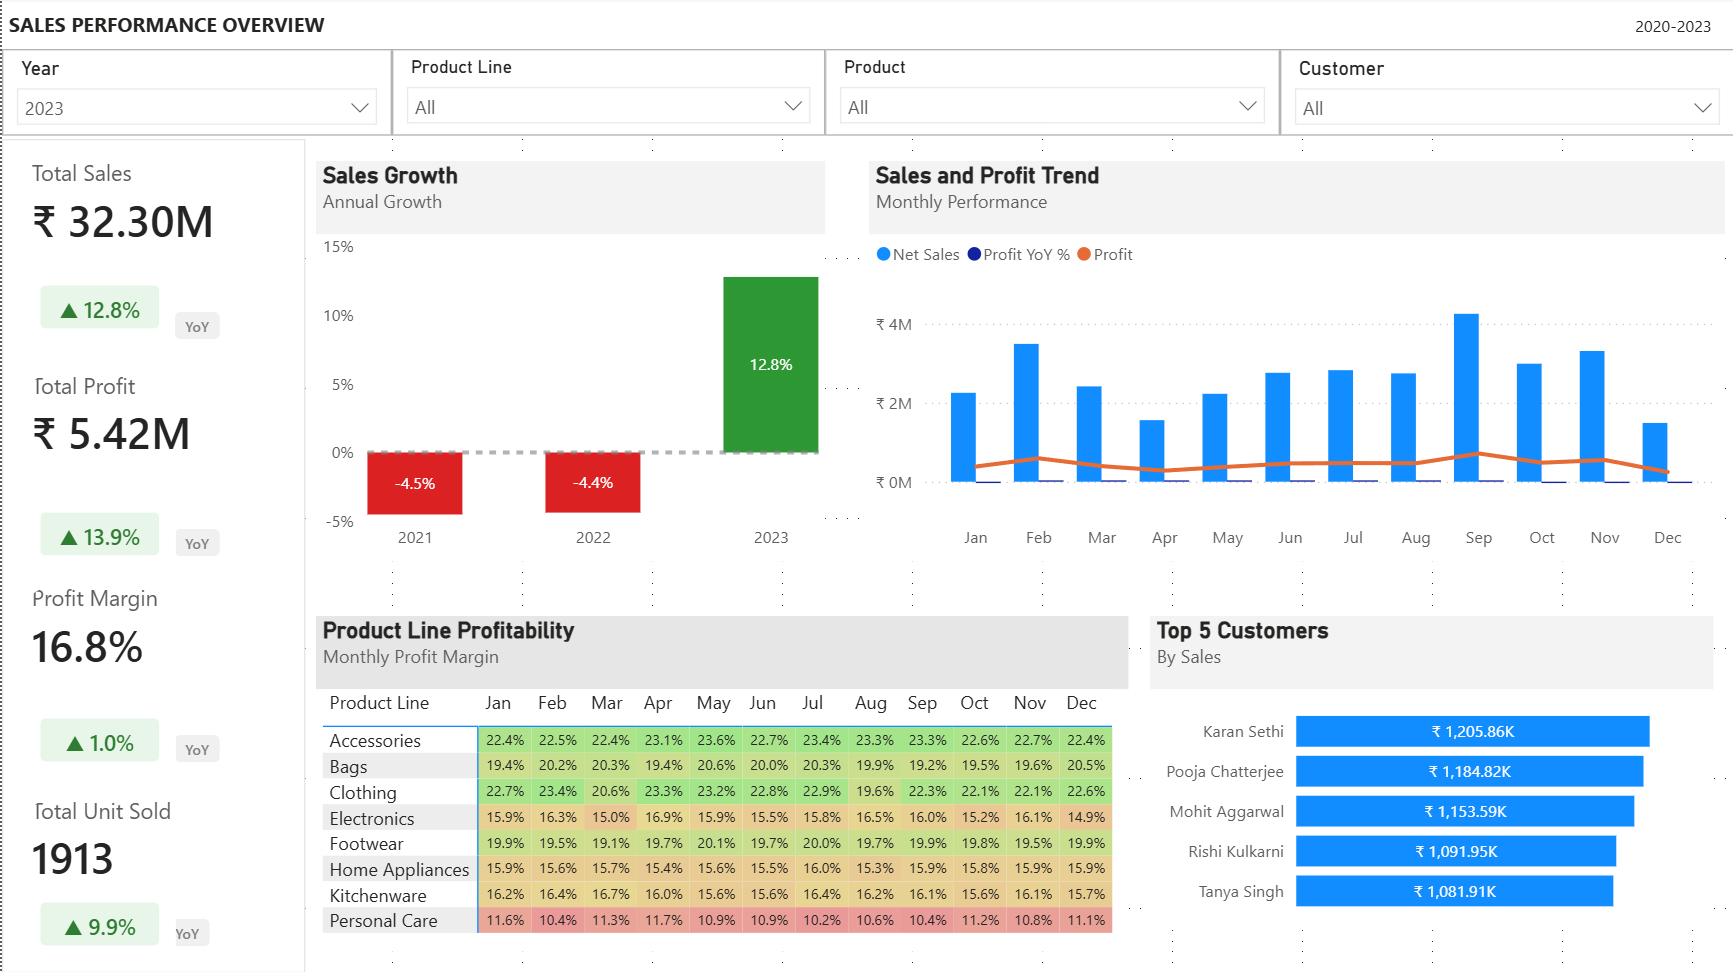

The dashboard page shown, as its layout file describes it:
{"tool":"powerbi","page":{"name":"Sales Performance Overview","canvas":[1280,720],"ordinal":0},"visuals":[{"type":"textbox","box":[0,0,1280,40],"z":0},{"type":"slicer","fields":{"Values":["Dim Date.Year"]},"box":[0,38,288,64],"z":1000},{"type":"slicer","fields":{"Values":["Dim Customers.Customer Name"]},"box":[944,38,336,64],"z":2000},{"type":"slicer","fields":{"Values":["Dim Product.Product Name"]},"box":[608,38,336,64],"z":3000},{"type":"slicer","fields":{"Values":["Dim Product.Product Line"]},"box":[288,38,320,64],"z":4000},{"type":"cardVisual","fields":{"Data":["Measures Table.Total Sales","Measures Table.Total Profit","Measures Table.Profit Margin","Measures Table.Total Unit"]},"box":[0,104,224,616],"z":5000},{"type":"cardVisual","fields":{"Data":["Measures Table.Yoy Display"]},"box":[16,200,112,56],"z":6000},{"type":"textbox","box":[128,232,33,19.9],"z":7000},{"type":"textbox","box":[128,392,33,19.9],"z":8000},{"type":"textbox","box":[128,544,33,19.9],"z":9000},{"type":"textbox","box":[120,680,33,19.9],"z":10000},{"type":"cardVisual","fields":{"Data":["Measures Table.Profit YoY Display"]},"box":[16,368,112,56],"z":11000},{"type":"cardVisual","fields":{"Data":["Measures Table.Proit Margin YoY Display"]},"box":[16,520,112,56],"z":12000},{"type":"cardVisual","fields":{"Data":["Measures Table.Unit YoY Display"]},"box":[16,656,112,56],"z":13000},{"type":"lineClusteredColumnComboChart","title":"Sales and Profit Trend","fields":{"Y2":["Sum(Fact Table.Profit)"],"Y":["Sum(Fact Table.Net Sales)","Measures Table.Profit YoY %"],"Category":["Dim Date.Short Month"]},"box":[640,120,632,296],"z":14000},{"type":"clusteredColumnChart","title":"Sales Growth","fields":{"Category":["Dim Date.Year"],"Y":["Measures Table.Sales YoY %"]},"box":[232,120,376,296],"z":15000},{"type":"pivotTable","title":"Product Line Profitability","fields":{"Rows":["Dim Product.Product Line"],"Values":["Measures Table.Profit Margin"],"Columns":["Dim Date.Short Month"]},"box":[232,456,600,248],"z":16000},{"type":"barChart","title":"Top 5 Customers","fields":{"Y":["Sum(Fact Table.Net Sales)"],"Category":["Dim Customers.Customer Name"]},"box":[848,456,416,232],"z":17000}]}

Visuals, with their boxes in screenshot pixels (x1, y1, x2, y2), scaled from the page's 1280x720 canvas onto the 1733x972 screenshot:
textbox: select_region(0, 0, 1732, 54)
slicer - Dim Date.Year: select_region(0, 51, 390, 138)
slicer - Dim Customers.Customer Name: select_region(1278, 51, 1732, 138)
slicer - Dim Product.Product Name: select_region(823, 51, 1278, 138)
slicer - Dim Product.Product Line: select_region(390, 51, 823, 138)
cardVisual - Measures Table.Total Sales x Measures Table.Total Profit: select_region(0, 140, 303, 971)
cardVisual - Measures Table.Yoy Display: select_region(22, 270, 173, 346)
textbox: select_region(173, 313, 218, 340)
textbox: select_region(173, 529, 218, 556)
textbox: select_region(173, 734, 218, 761)
textbox: select_region(162, 918, 207, 945)
cardVisual - Measures Table.Profit YoY Display: select_region(22, 497, 173, 572)
cardVisual - Measures Table.Proit Margin YoY Display: select_region(22, 702, 173, 778)
cardVisual - Measures Table.Unit YoY Display: select_region(22, 886, 173, 961)
"Sales and Profit Trend" lineClusteredColumnComboChart: select_region(866, 162, 1722, 562)
"Sales Growth" clusteredColumnChart: select_region(314, 162, 823, 562)
"Product Line Profitability" pivotTable: select_region(314, 616, 1126, 950)
"Top 5 Customers" barChart: select_region(1148, 616, 1711, 929)
